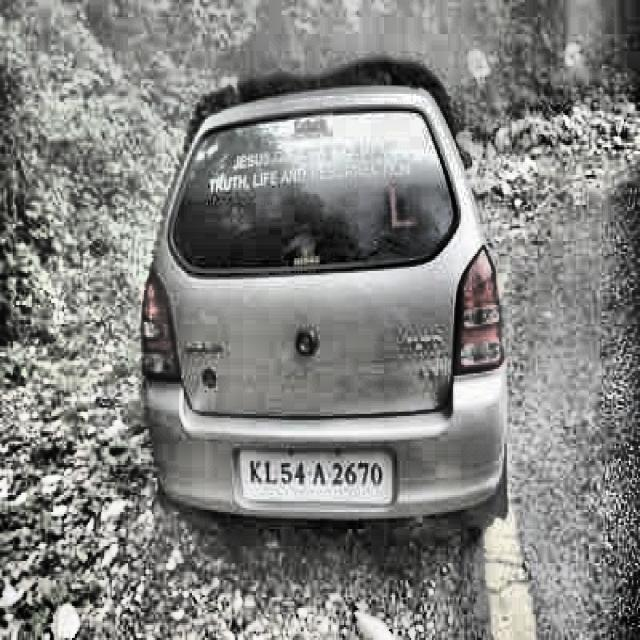license_plate: (237, 450, 393, 513)
